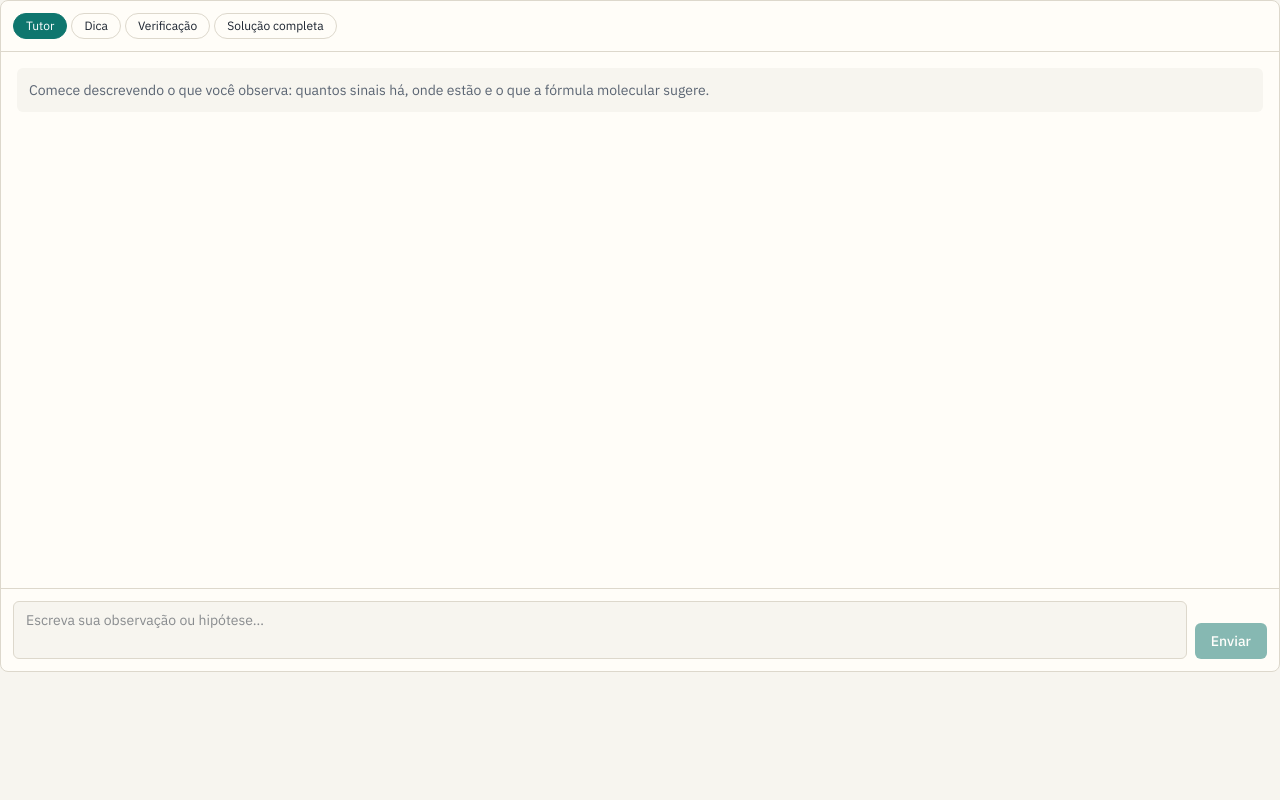
Test: ChatPanel › streams the tutor answer with tool chips
Step 1. Type "Vejo três sinais" into the text box with test id "chat-input" → (600, 630), box [13,601,1187,659]
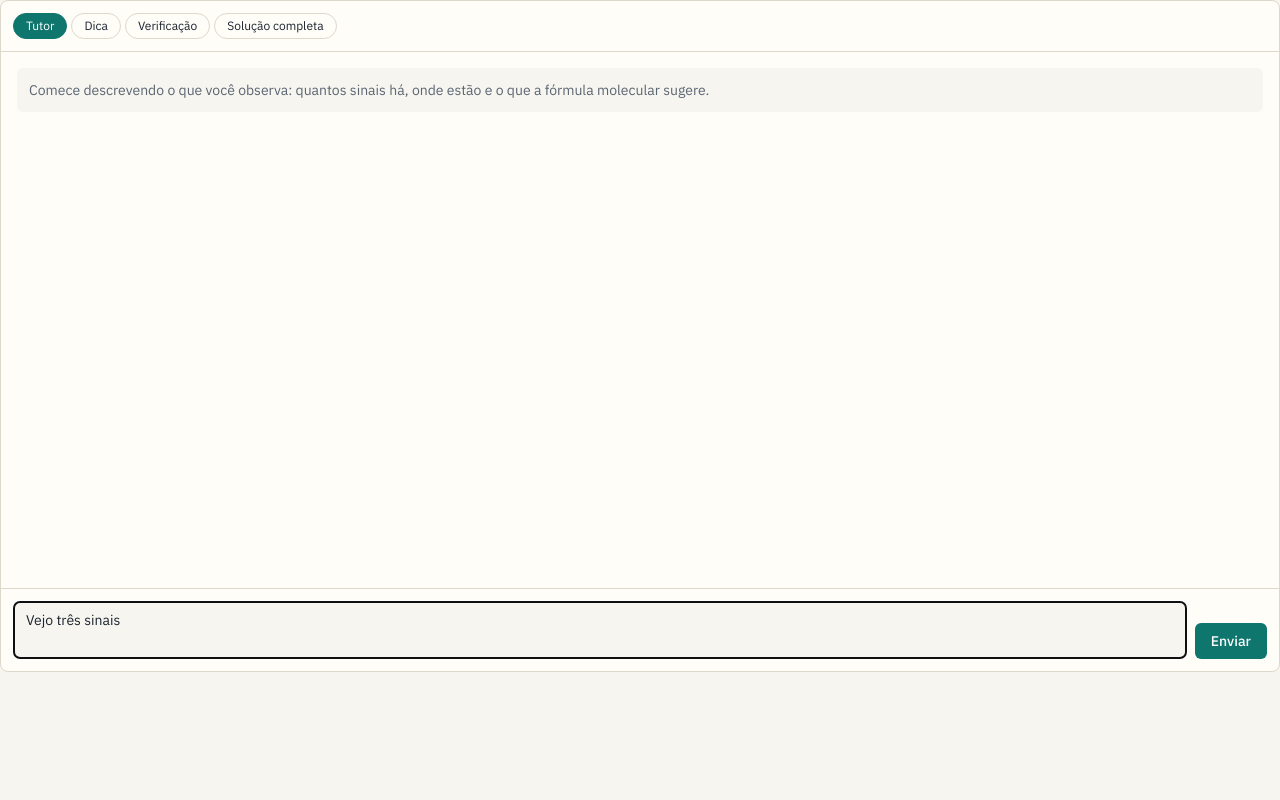
Step 2. Click the button "Enviar" → (1231, 641), box [1195,623,1267,659]
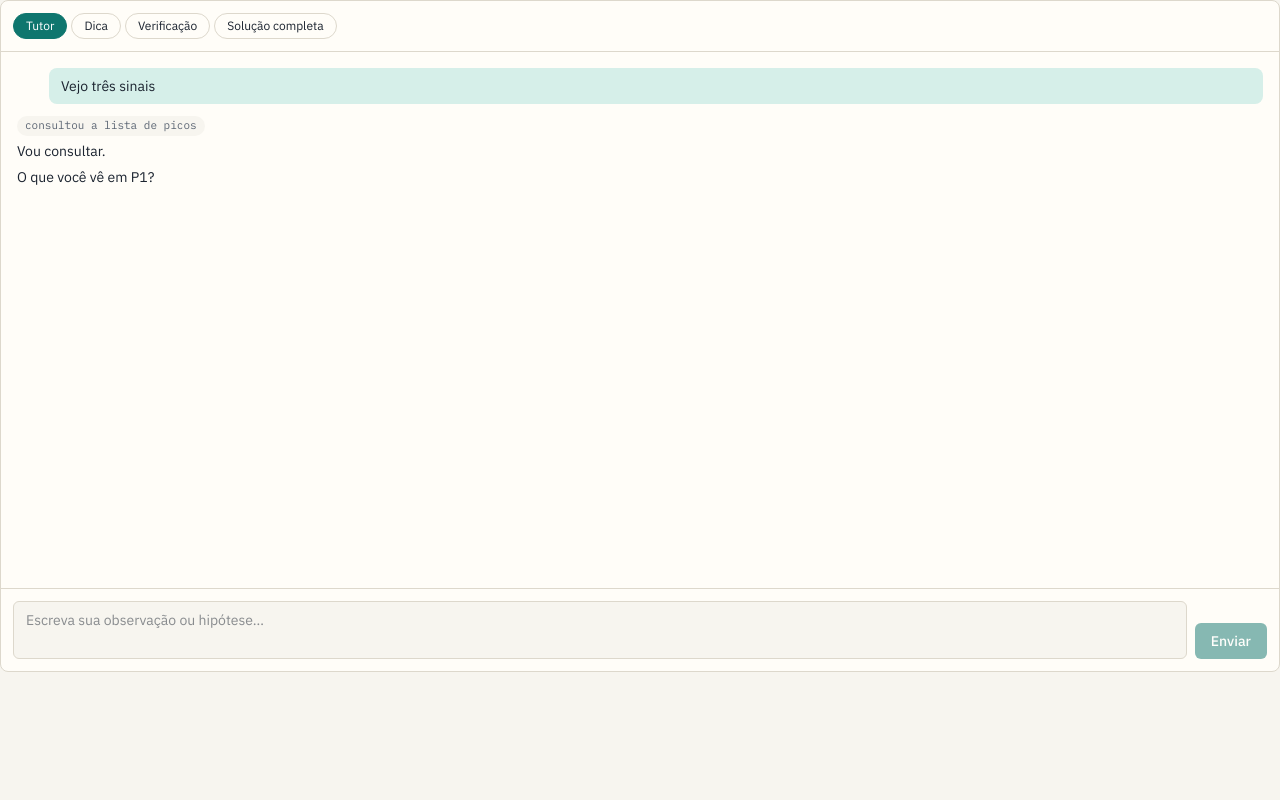
Expected: the text "Vejo três sinais" is shown, [49,68,1263,104]
Expected: the element with test id "assistant-message" shows "O que você vê em P1?", [17,168,154,186]
Expected: the text with test id "tool-chip" reads "consultou a lista de picos", [25,118,197,132]
